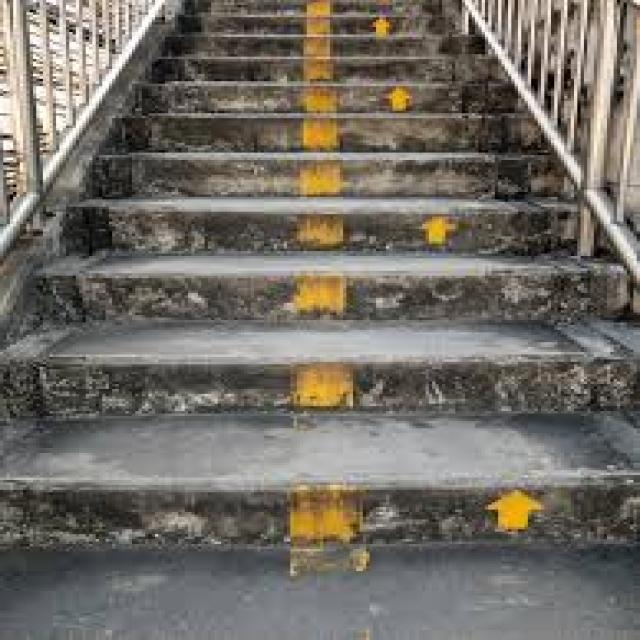stairs: (0, 0, 636, 551)
